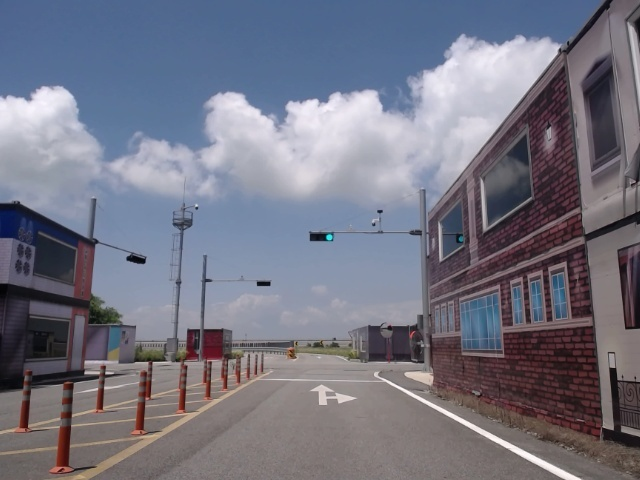green_3: (311, 233, 334, 241)
